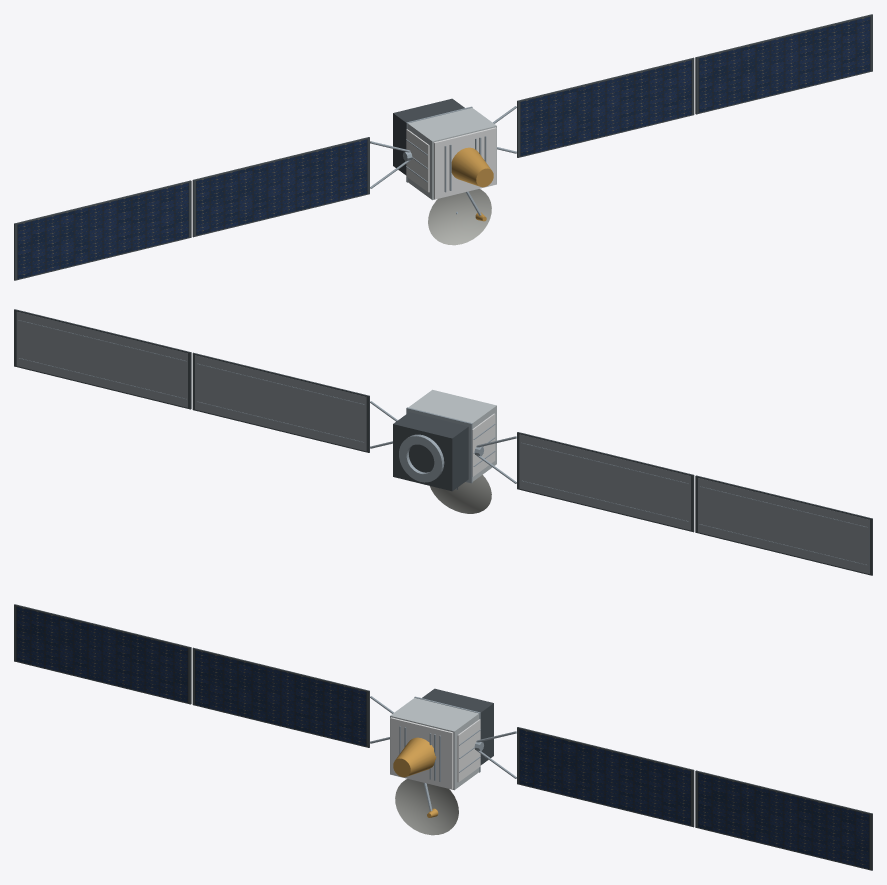
The model's file is ref-as4000-16276.glb.
3 renders of one model, top to bottom at view 1: azimuth 30°, elevation 25°; view 2: azimuth 150°, elevation 25°; view 3: azimuth 330°, elevation 25°, orthographic.
Visible parts, largest first — view 1: Solar cell panel (×4), Solar panel frame (×4), Communications reflector, Earth-facing deck, Payload module, Service module, Axial antenna horn, Radiator face; view 2: Rear array substrate (×4), Solar panel frame (×4), Service module, Payload module, Communications reflector, Launch adapter ring, Radiator face, Module interface; view 3: Solar cell panel (×4), Solar panel frame (×4), Communications reflector, Earth-facing deck, Payload module, Service module, Axial antenna horn, Radiator face.
Boxes of the visible parts, x1,y1,x2,y2 form: Solar cell panel (×4): [17, 16, 870, 278]; Solar panel frame (×4): [14, 14, 872, 280]; Communications reflector: [428, 189, 491, 245]; Earth-facing deck: [433, 127, 496, 199]; Payload module: [407, 108, 496, 200]; Service module: [393, 98, 464, 175]; Axial antenna horn: [451, 147, 493, 187]; Radiator face: [406, 129, 429, 192]; Rear array substrate (×4): [16, 311, 869, 573]; Solar panel frame (×4): [14, 309, 872, 575]; Service module: [393, 412, 468, 491]; Payload module: [408, 389, 496, 481]; Communications reflector: [430, 475, 491, 513]; Launch adapter ring: [399, 434, 444, 482]; Radiator face: [472, 413, 495, 476]; Module interface: [406, 407, 472, 483]; Solar cell panel (×4): [16, 606, 869, 868]; Solar panel frame (×4): [14, 604, 872, 870]; Communications reflector: [395, 779, 458, 835]; Earth-facing deck: [390, 717, 453, 789]; Payload module: [390, 698, 479, 790]; Service module: [422, 688, 493, 765]; Axial antenna horn: [393, 737, 436, 777]; Radiator face: [457, 719, 480, 782].
Size of the model in its own units: 19.96 by 2.52 by 2.6.
8 materials, 1 textured.
